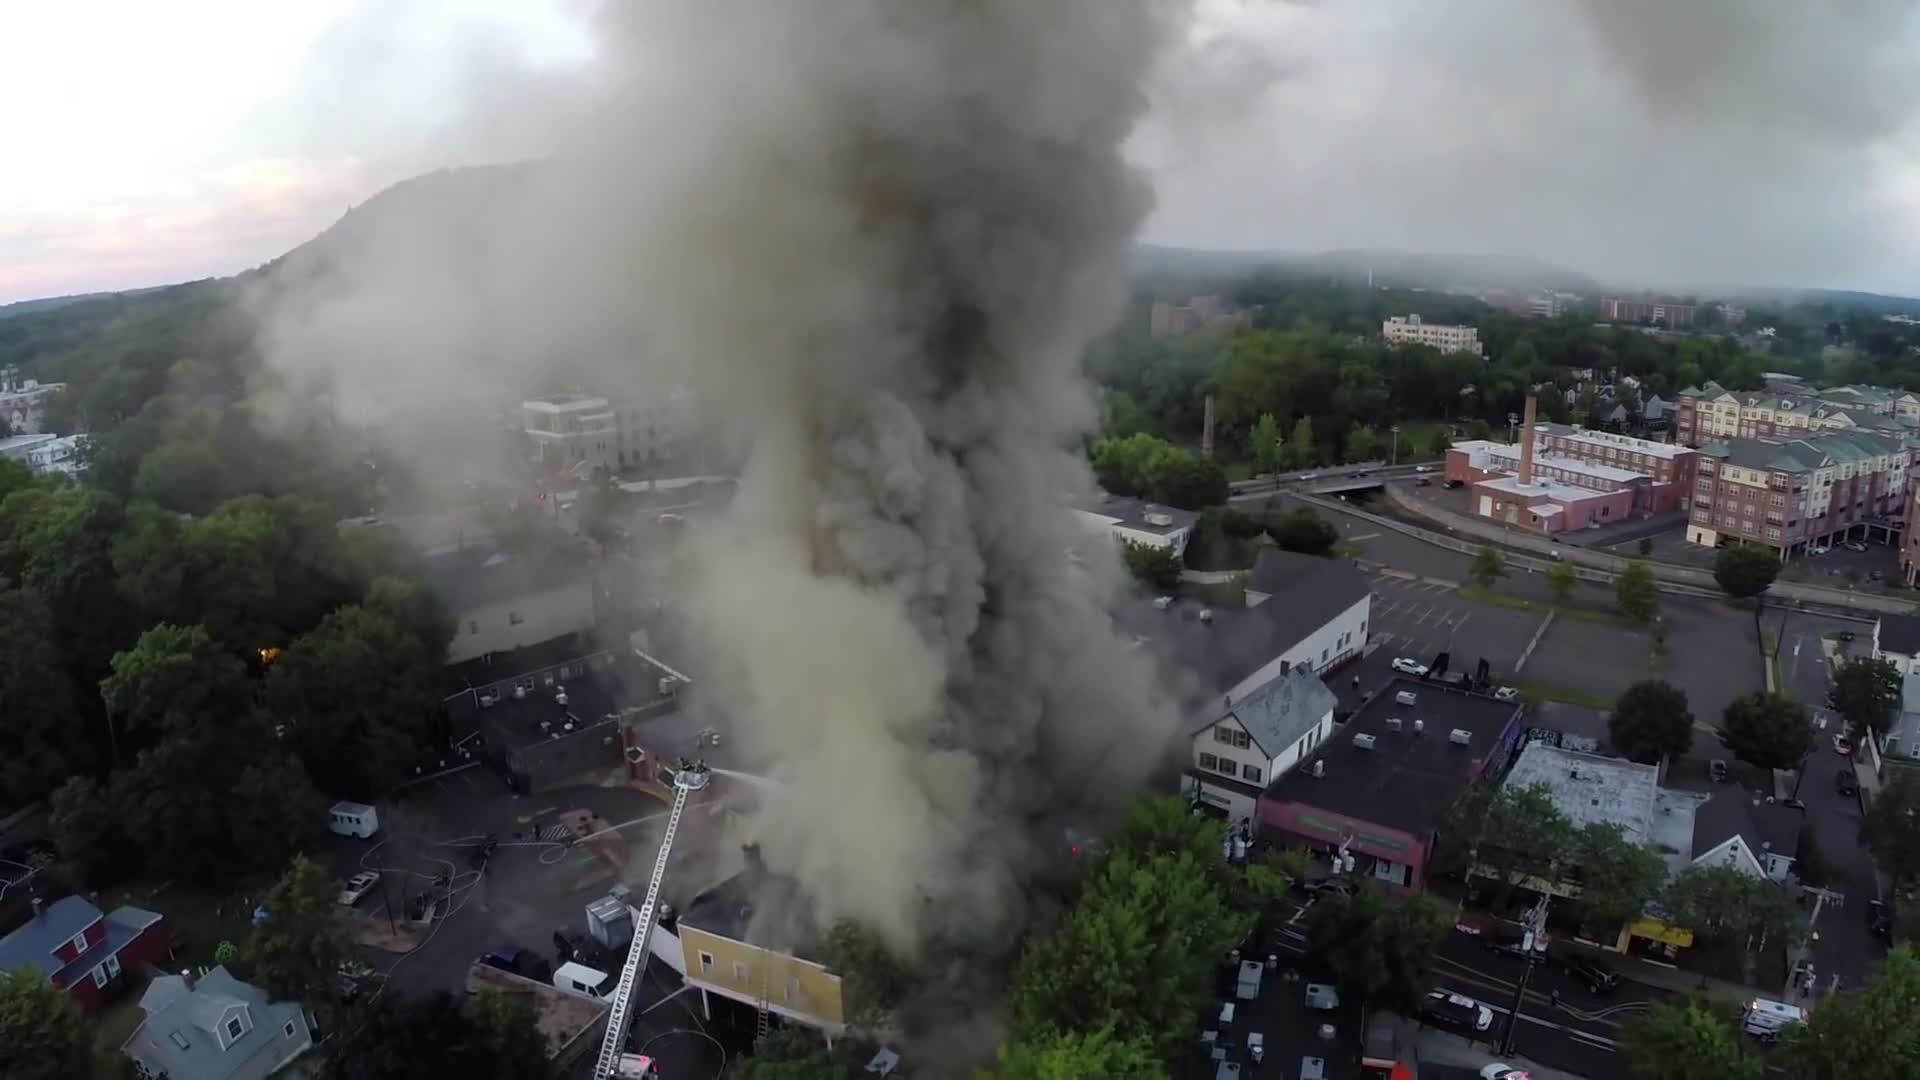smoke: (698, 17, 1122, 863)
